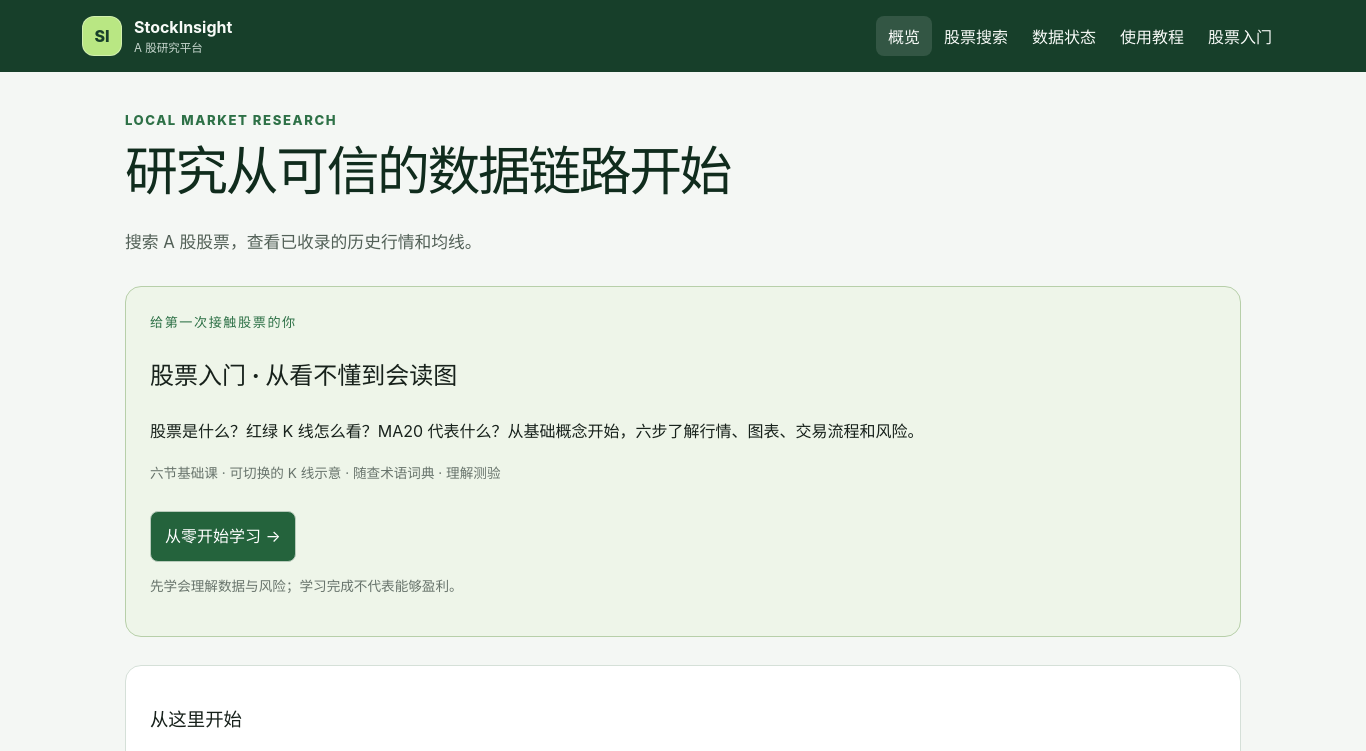
Test: stock learning center › opens from the homepage even when market data fails
Click the link "从零开始学习 →" at (223, 536), box [150,511,296,562]
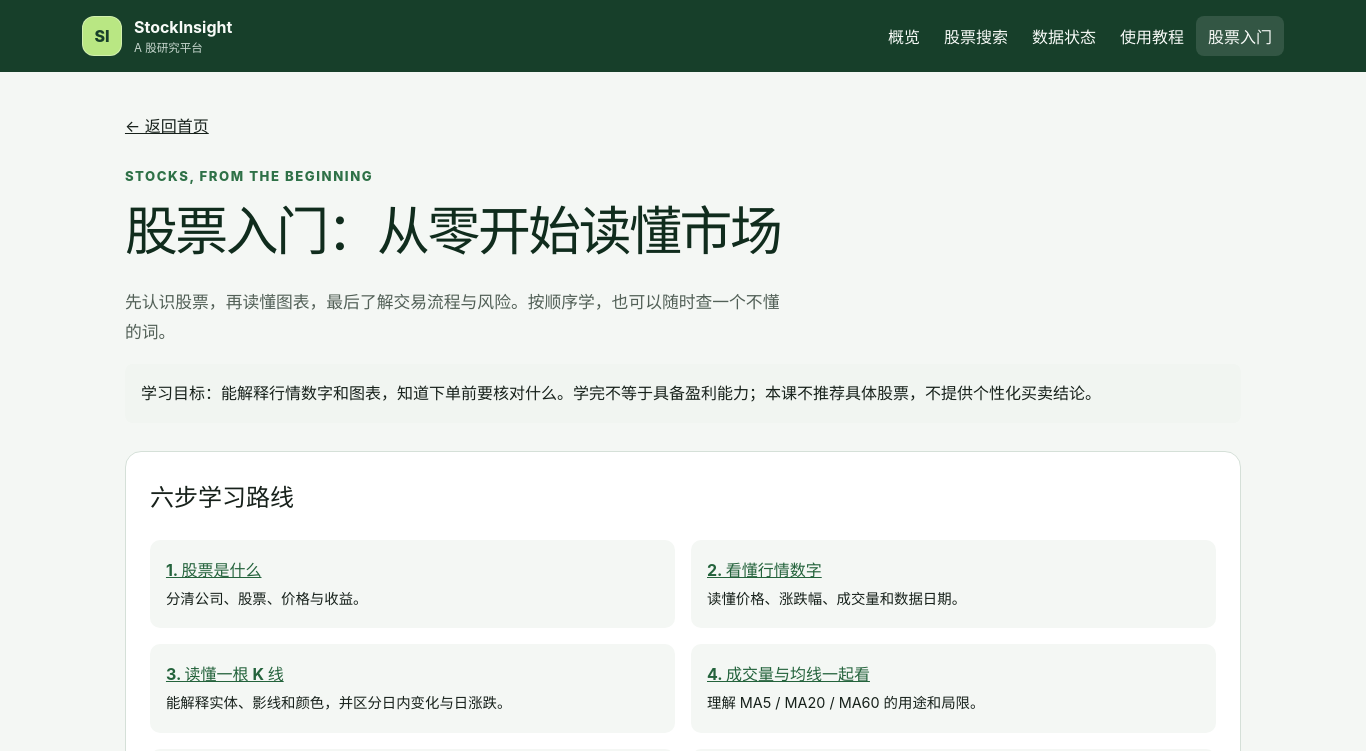
Expected: the link to "/stocks" is shown, [944,27,1008,47]
Now the heading "股票入门：从零开始读懂市场" is shown, box [125,200,825,263]
